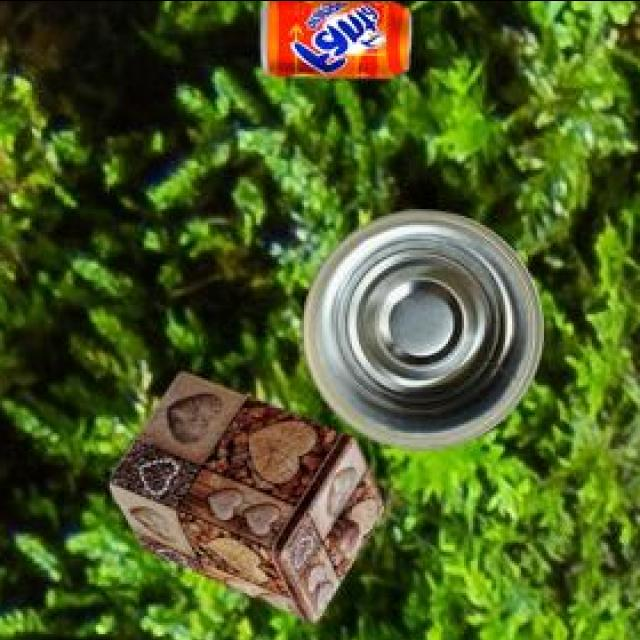logam: (113, 374, 387, 625), (305, 214, 545, 451), (264, 1, 415, 81)
